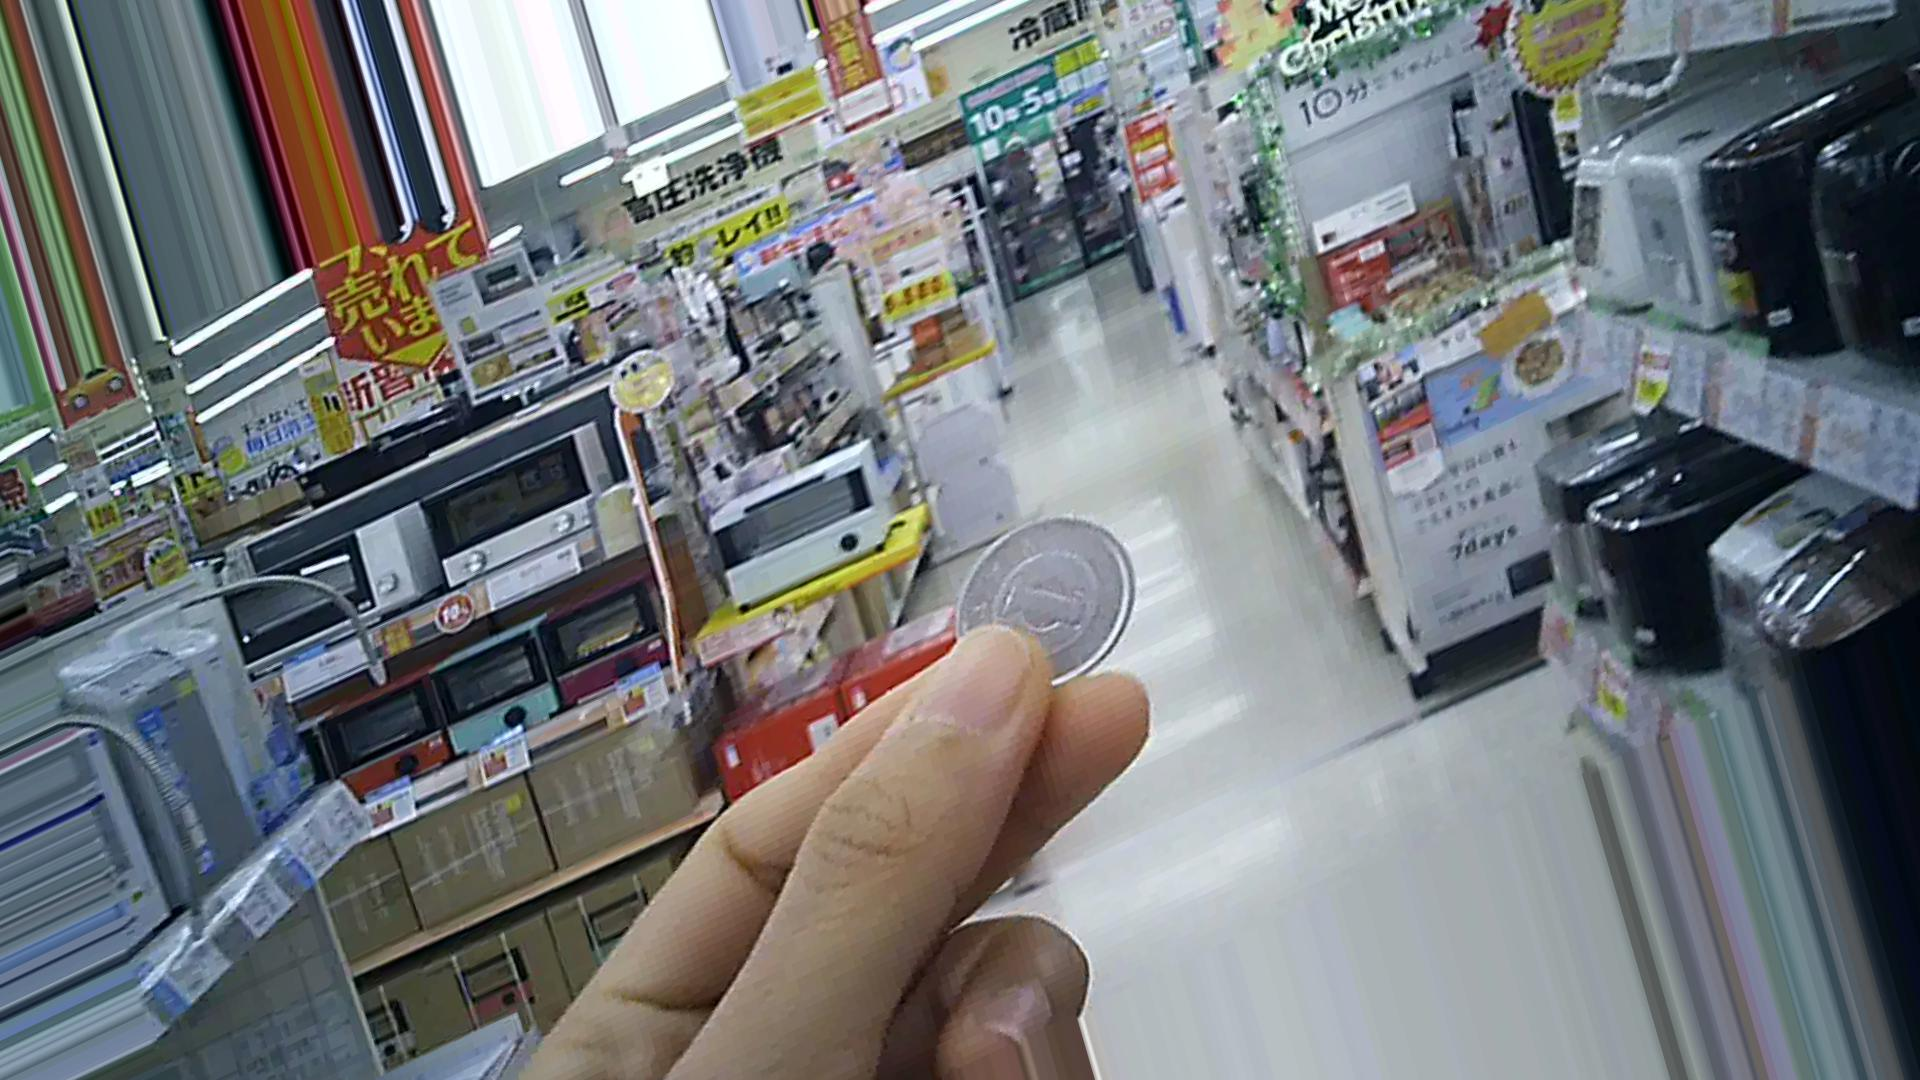1 Yen: (945, 514, 1154, 694)
